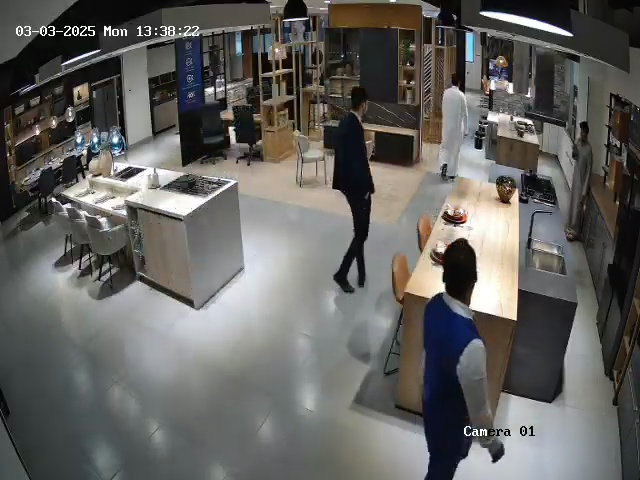employee: (421, 237, 505, 480), (331, 86, 376, 294)
male: (438, 73, 468, 182), (571, 122, 598, 243)
